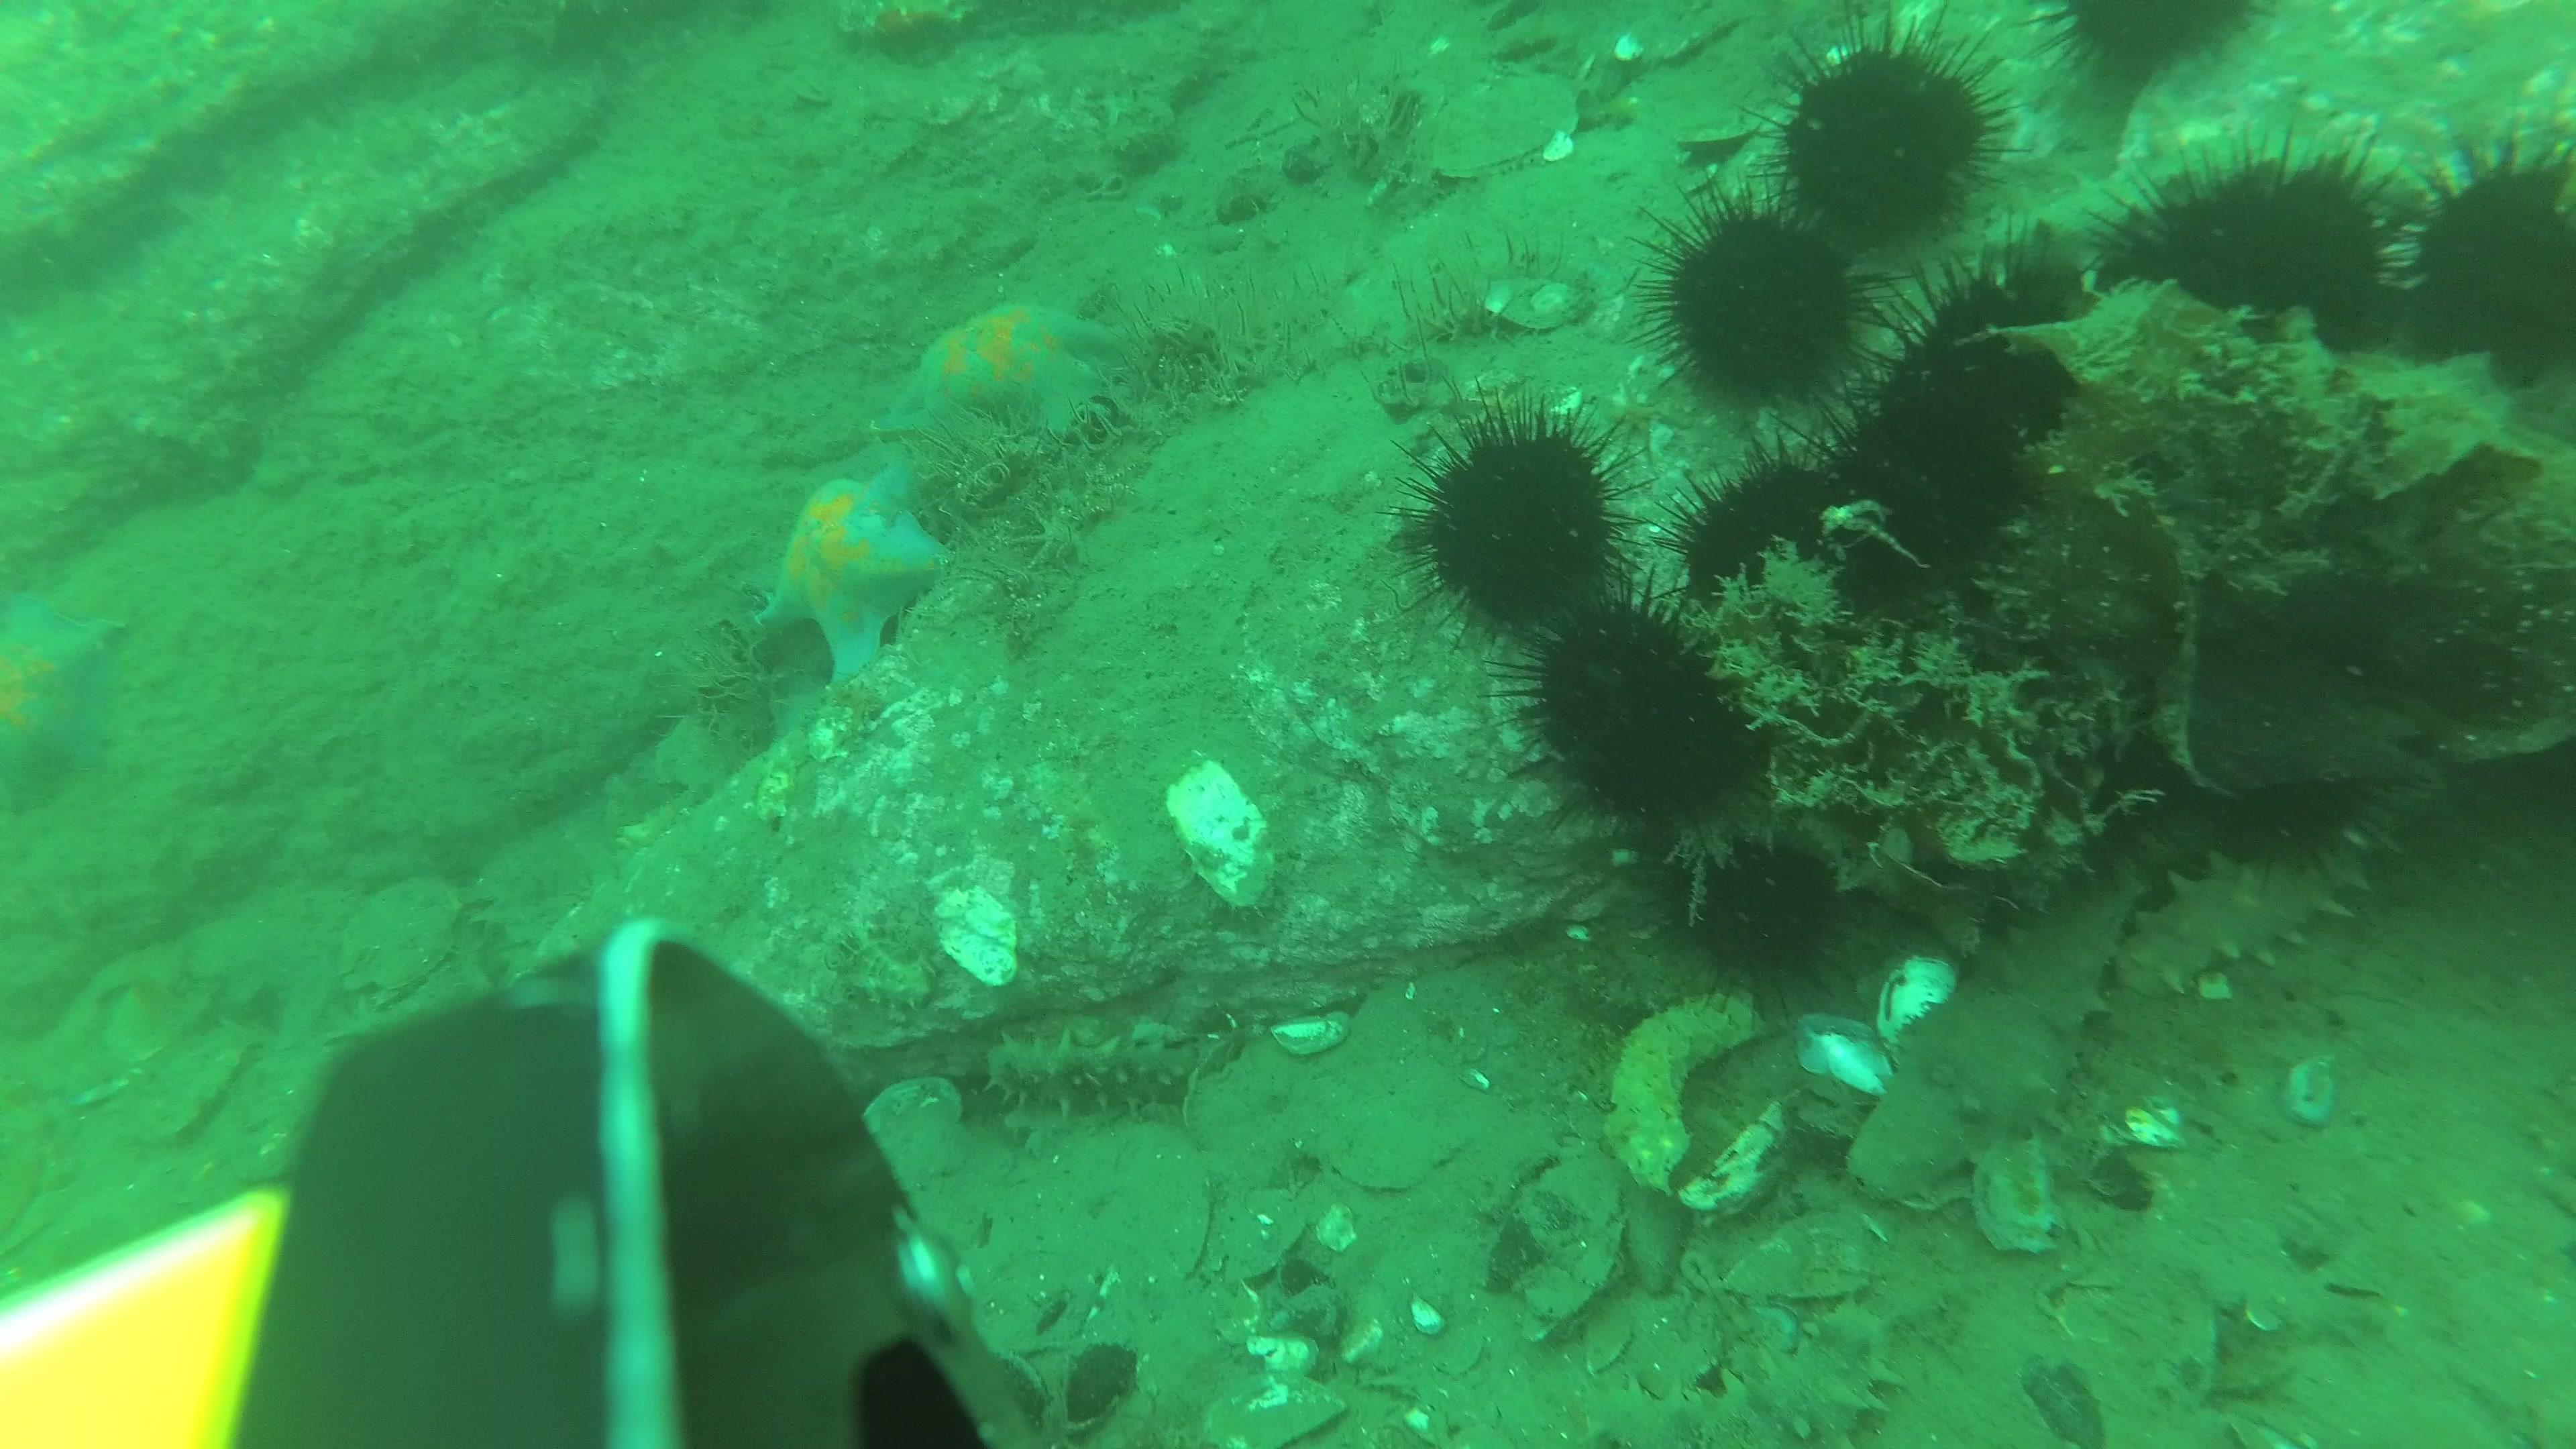echinus: (2097, 126, 2410, 384), (1491, 582, 1790, 851), (1369, 389, 1658, 651), (1750, 0, 2024, 267), (1635, 177, 1905, 425), (1879, 237, 2121, 488), (1794, 380, 2022, 619), (2396, 127, 2576, 395), (1660, 812, 1877, 1024), (1668, 442, 1870, 655), (2204, 697, 2403, 879), (2013, 701, 2176, 878), (2035, 0, 2282, 106)
holothurian: (1851, 862, 2143, 1208), (2118, 771, 2454, 996), (1989, 127, 2445, 248), (1585, 1286, 1914, 1449), (987, 1028, 1208, 1125)
scallop: (1431, 69, 1583, 179), (345, 874, 467, 1003), (858, 1065, 968, 1192)
starfish: (764, 471, 952, 694), (870, 301, 1131, 437), (0, 580, 134, 817)
